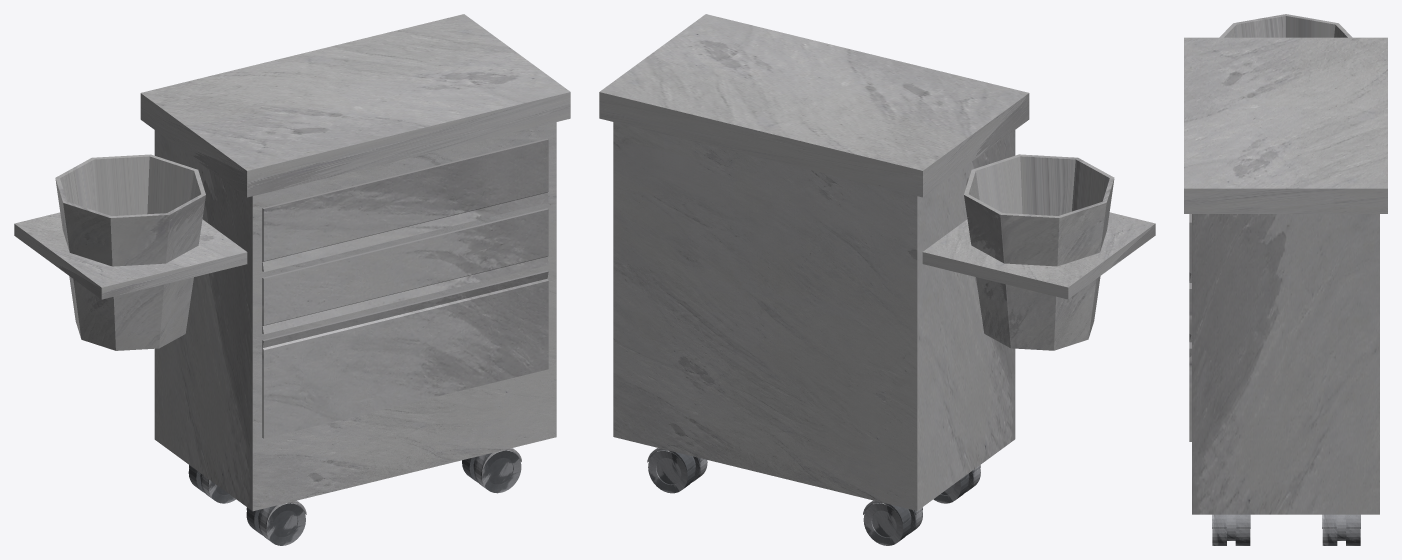
The model's file is ArmarioDeSeEsconder.fbx.
3 renders of one model, left to right at view 1: azimuth 30°, elevation 25°; view 2: azimuth 150°, elevation 25°; view 3: azimuth 270°, elevation 25°, orthographic. The views are drawn at different scales.
Visible parts, largest first — view 1: Cube, Cube.001, Cylinder, Cube.002, Roda; view 2: Cube, Cube.001, Cylinder, Cube.002, Roda; view 3: Cube, Cube.001, Roda, Cylinder.
Part boxes in pixels (<box>): Cube: <box>154,122,556,511</box>; Cube.001: <box>140,14,570,197</box>; Cylinder: <box>55,154,205,350</box>; Cube.002: <box>14,212,247,299</box>; Roda: <box>188,448,521,545</box>; Cube: <box>613,122,1015,510</box>; Cube.001: <box>599,14,1029,197</box>; Cylinder: <box>964,154,1114,350</box>; Cube.002: <box>922,212,1155,299</box>; Roda: <box>647,448,980,545</box>; Cube: <box>1189,214,1379,514</box>; Cube.001: <box>1184,37,1387,213</box>; Roda: <box>1212,514,1360,545</box>; Cylinder: <box>1219,14,1352,37</box>.
Bounding box in the file's own units: 540 × 448 × 217.
